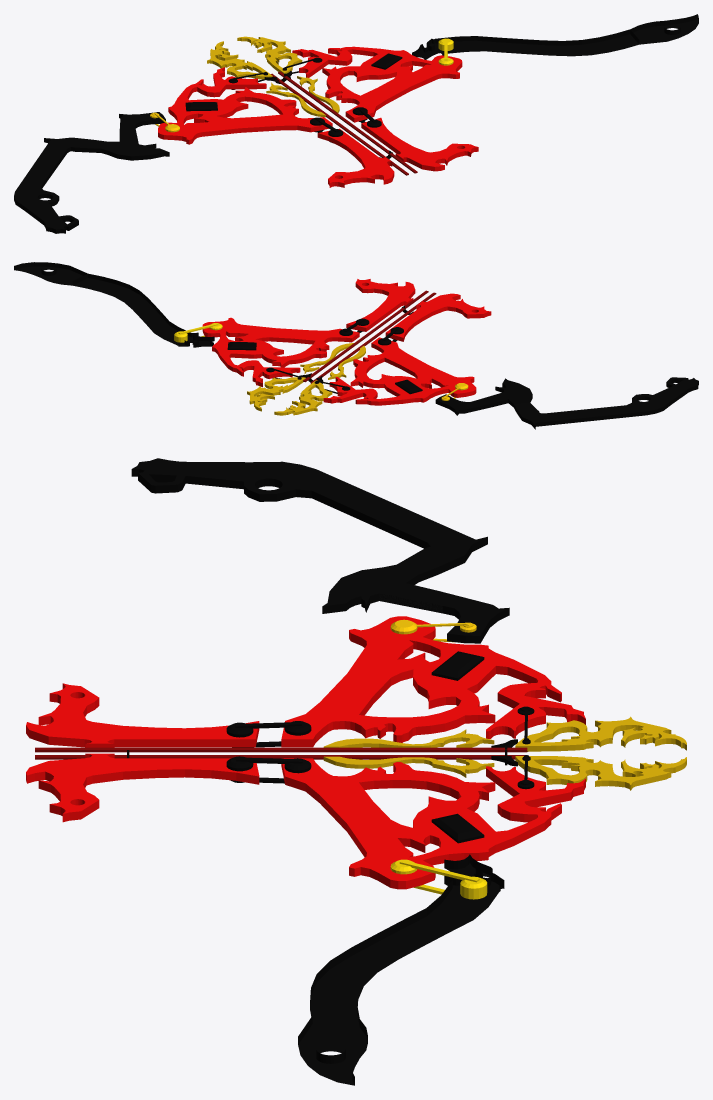
The model's file is yumi.glb.
3 views of the same model, one above another, from view 1: azimuth 30°, elevation 25°; view 2: azimuth 150°, elevation 25°; view 3: azimuth 270°, elevation 25° (orthographic). The views are drawn at different scales.
Parts seen in each view (by area): view 1: 平面.011, 平面, 平面.012, 平面.001, 平面.009, 平面.007, 平面.003, 平面.006; view 2: 平面, 平面.011, 平面.012, 平面.001, 平面.009, 平面.007, 平面.003, 平面.006, 平面.008; view 3: 平面.012, 平面.011, 平面, 平面.009, 平面.001, 平面.007, 平面.003, 平面.006, 平面.008, 平面.010, 平面.002.
Part boxes in pixels (left/top/right/bottom): 平面.011: left=158, top=67, right=332, bottom=144; 平面: left=292, top=46, right=462, bottom=122; 平面.012: left=14, top=112, right=169, bottom=233; 平面.001: left=412, top=14, right=698, bottom=59; 平面.009: left=317, top=117, right=478, bottom=187; 平面.007: left=207, top=36, right=302, bottom=79; 平面.003: left=270, top=71, right=417, bottom=175; 平面.006: left=266, top=76, right=339, bottom=117; 平面: left=202, top=317, right=359, bottom=387; 平面.011: left=323, top=337, right=476, bottom=405; 平面.012: left=435, top=377, right=698, bottom=429; 平面.001: left=14, top=262, right=214, bottom=347; 平面.009: left=346, top=279, right=491, bottom=341; 平面.007: left=247, top=377, right=332, bottom=415; 平面.003: left=303, top=290, right=436, bottom=383; 平面.006: left=300, top=343, right=365, bottom=379; 平面.008: left=174, top=323, right=222, bottom=342; 平面.012: left=131, top=458, right=509, bottom=643; 平面.011: left=281, top=616, right=585, bottom=747; 平面: left=281, top=758, right=585, bottom=889; 平面.009: left=26, top=683, right=259, bottom=822; 平面.001: left=298, top=854, right=504, bottom=1085; 平面.007: left=515, top=716, right=686, bottom=790; 平面.003: left=35, top=747, right=527, bottom=759; 平面.006: left=323, top=729, right=494, bottom=777; 平面.008: left=390, top=859, right=487, bottom=899; 平面.010: left=226, top=756, right=311, bottom=783; 平面.002: left=226, top=721, right=311, bottom=747.
Size of the model in its own units: 4.95 by 0.0817 by 2.23.
